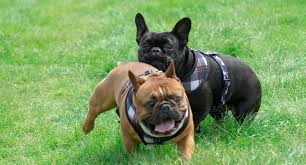Bulldog: (105, 60, 193, 157), (128, 11, 217, 61)
